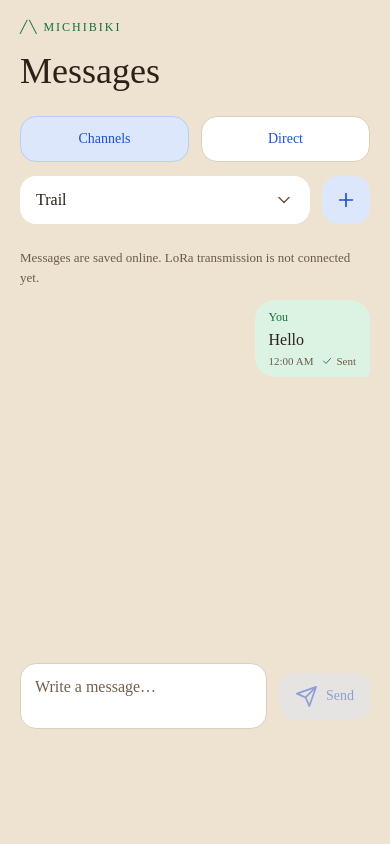
Scenario: shows sending, then failed, and retries on tap
Type "Ping" into the text box labelled "message" at (144, 696), box [20,663,267,729]
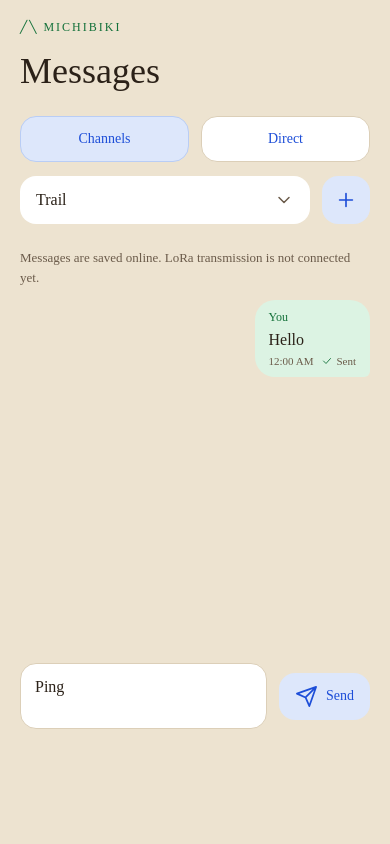
Click the button "Send" at (324, 696), box [279,672,370,720]
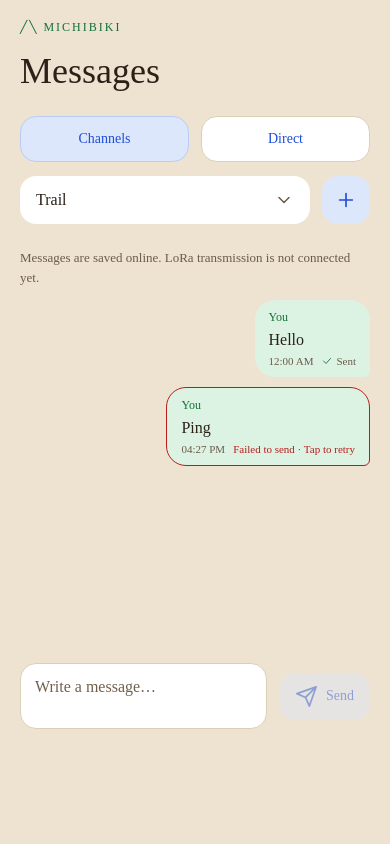
Expected: the text "Failed to send · Tap to retry" is shown, [233,443,355,455]
Click the text "Ping" at (196, 428), box [181,419,211,436]
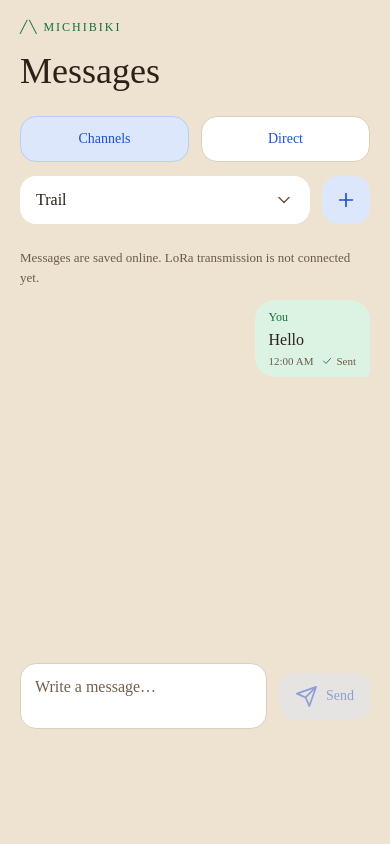
Expected: the text "Ping" is gone
